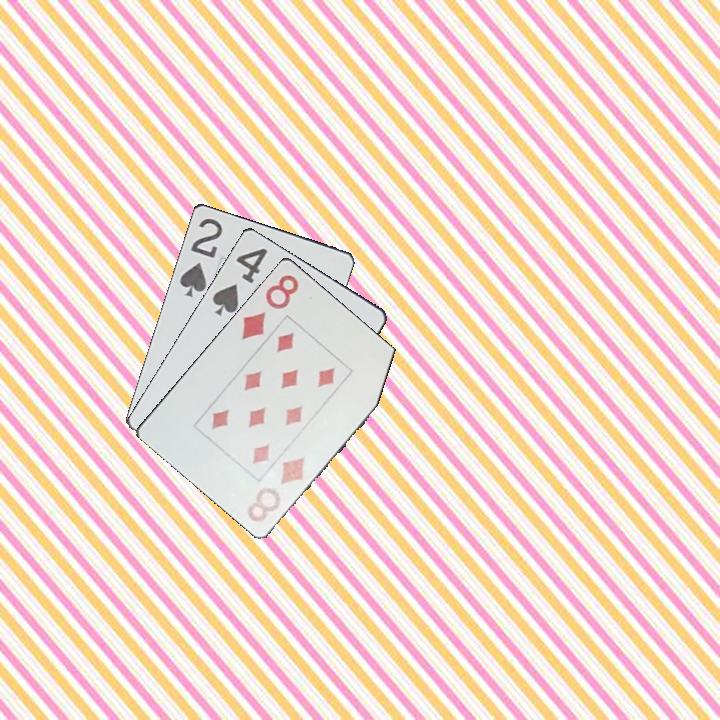2s: (175, 214, 225, 300)
4s: (208, 244, 270, 318)
8d: (237, 270, 303, 343), (244, 452, 308, 525)
